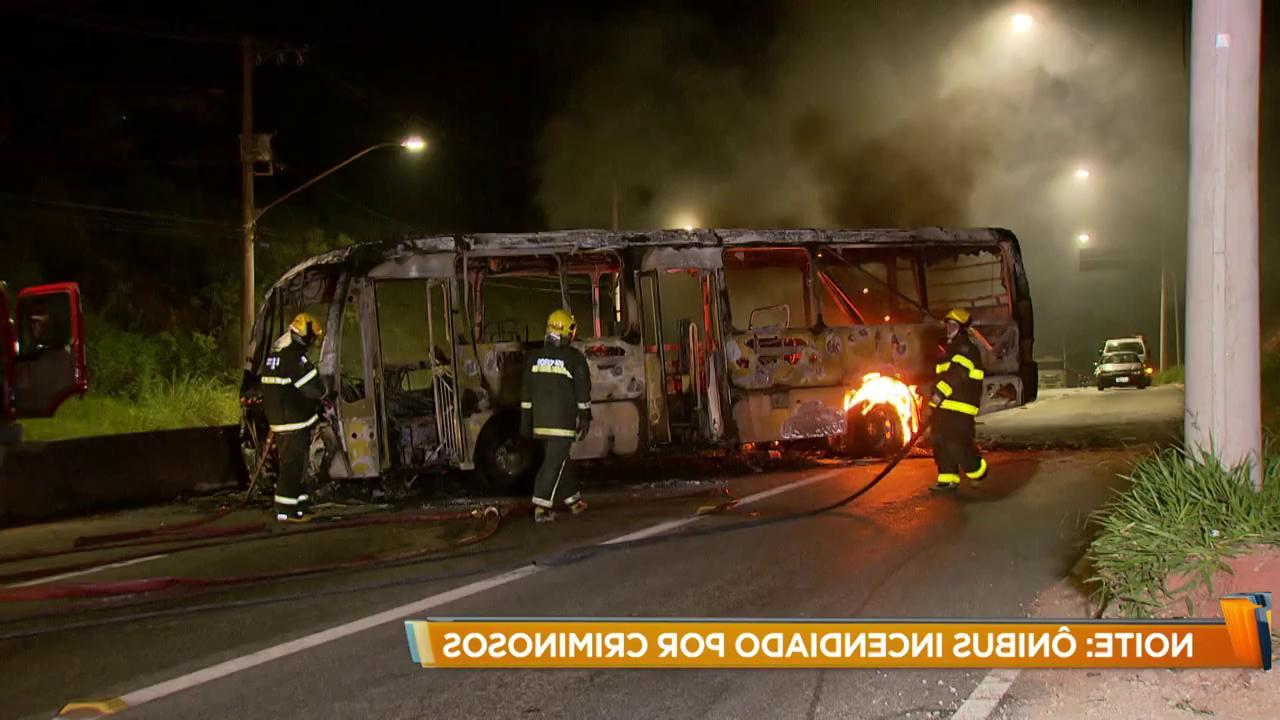Fire: (842, 369, 929, 446)
